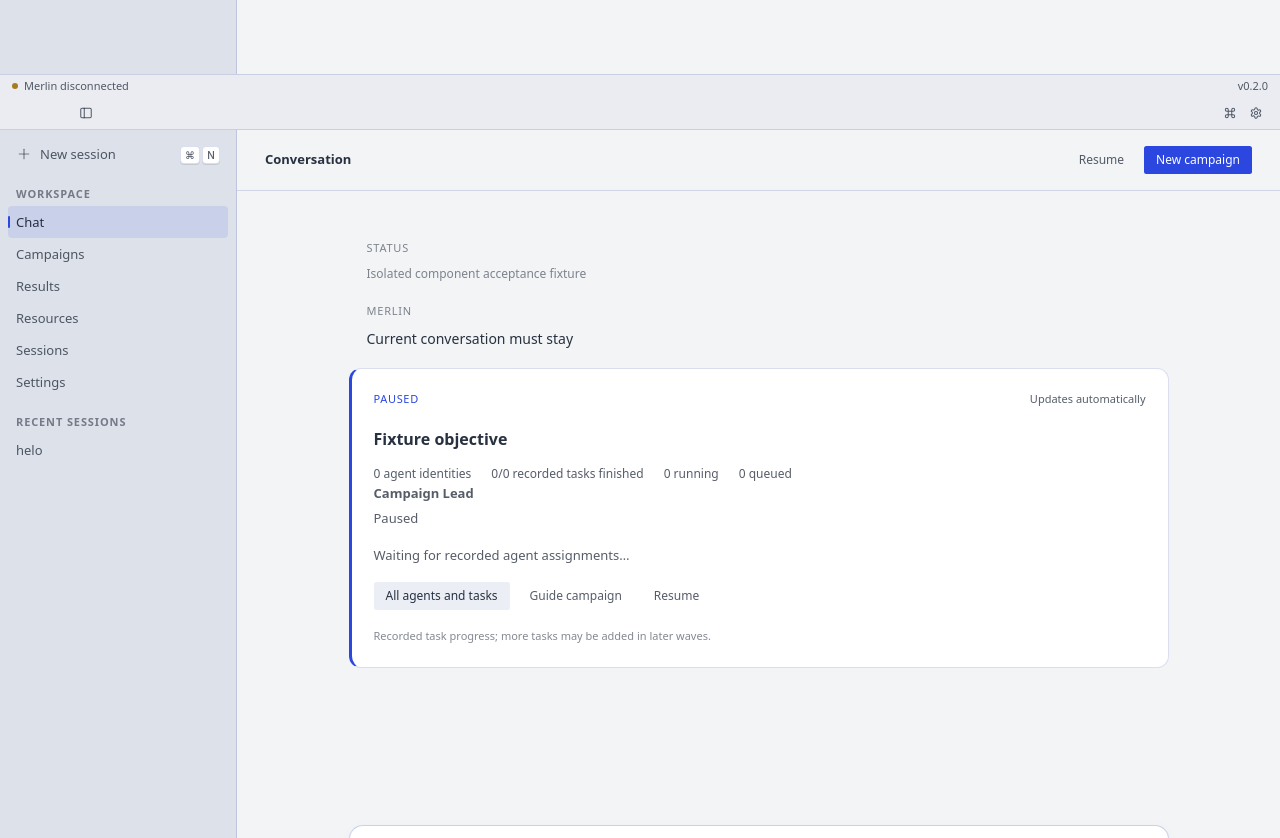
Test case: keeps the current conversation visible while resume is pending
The image size is (1280, 838).
(page scrolled)
Expected: the text "Current conversation must stay" is shown, [366,329,573,348]
Step 1. Click the button named "helo" below "Recent sessions" → (118, 450), box [8,434,228,466]
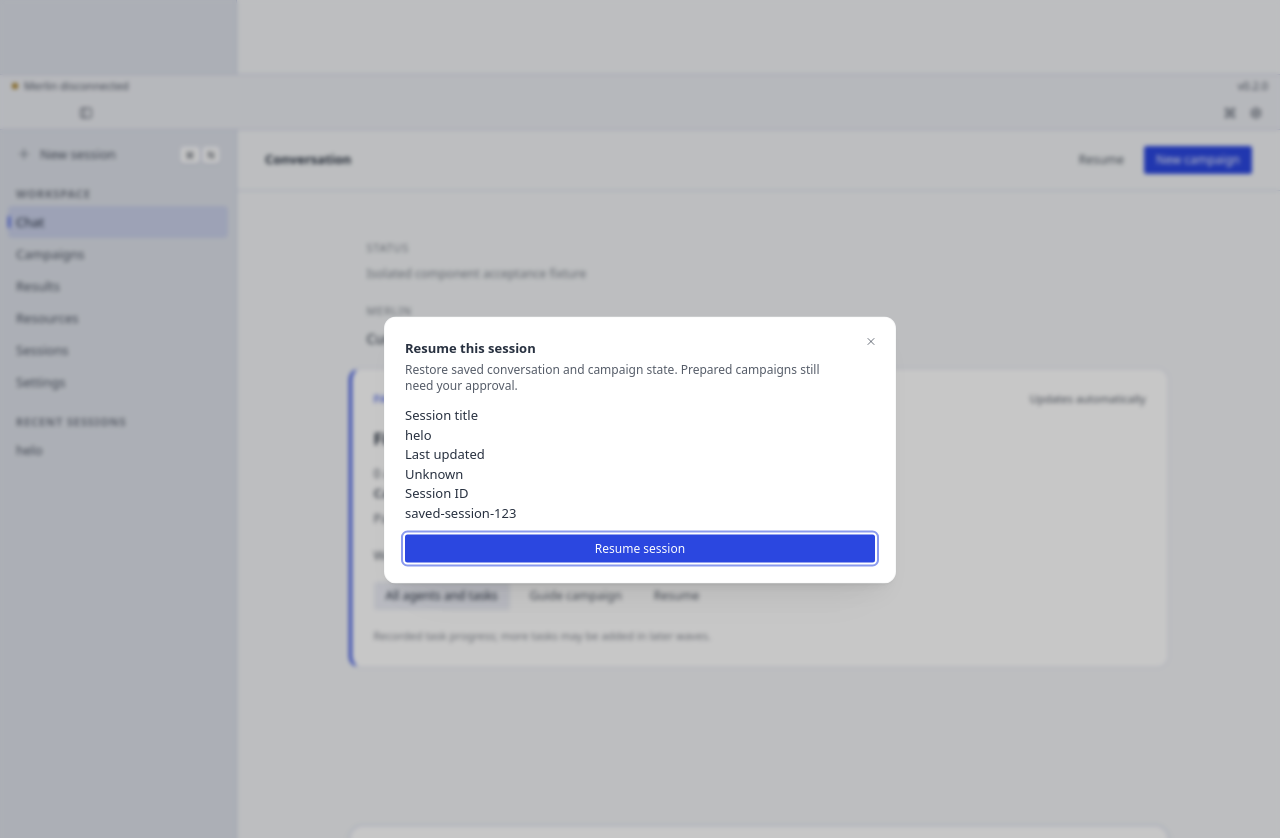
Step 2. Click the button "Resume session" → (640, 548), box [405,534,875,562]
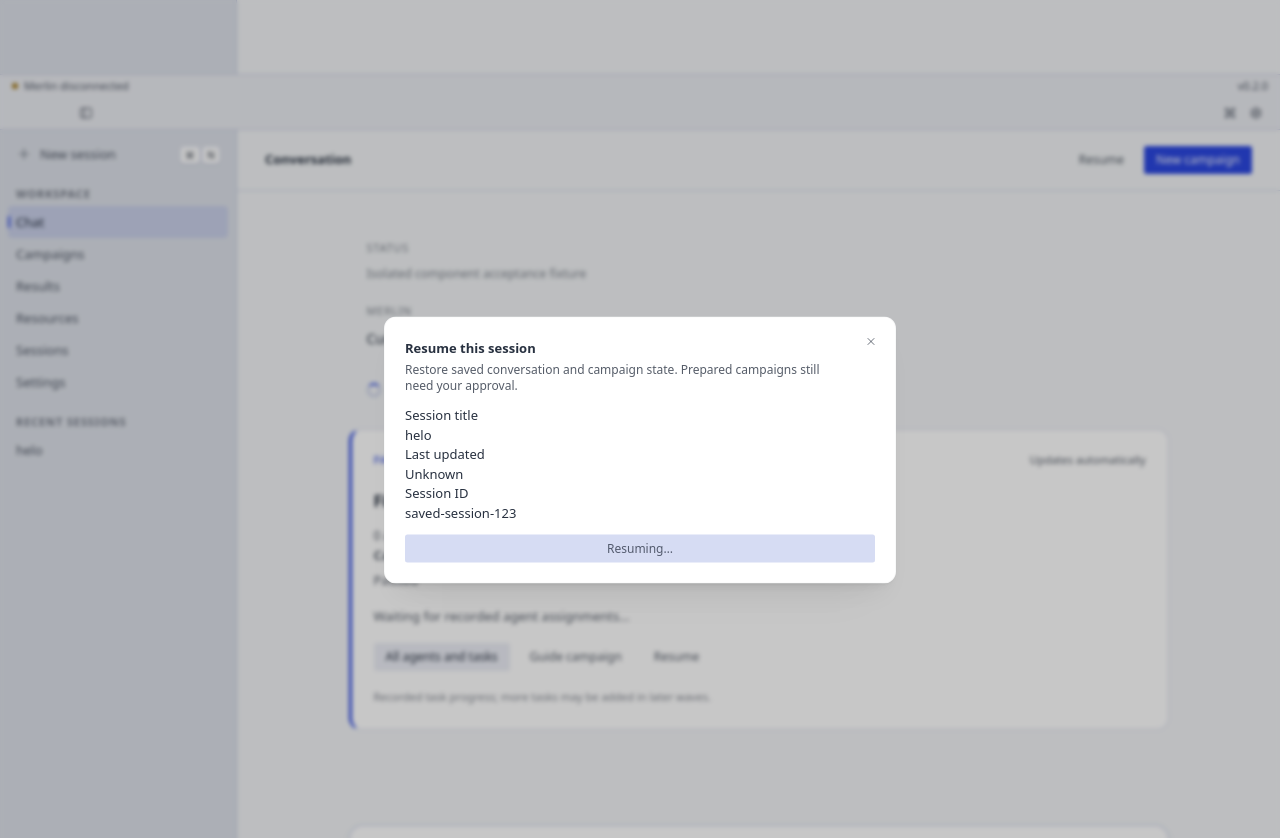
Expected: the text "Current conversation must stay" is shown, [366,329,573,348]
Result: the button "Resuming…" is disabled at [405,534,875,562]
